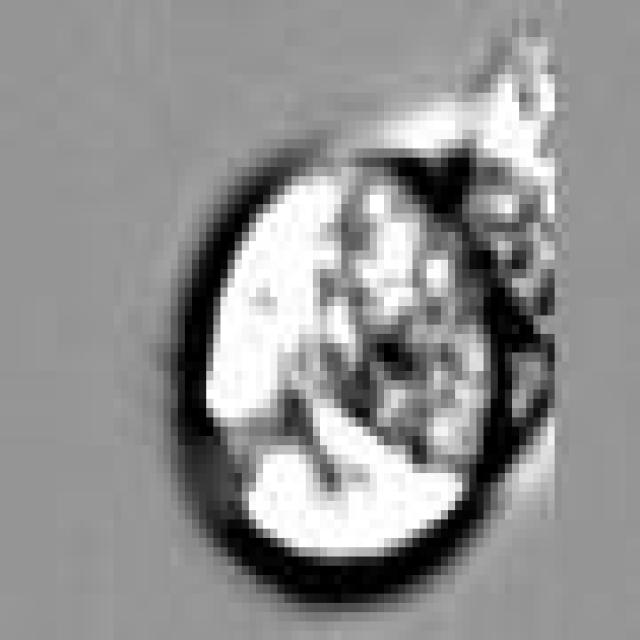Cancer Cell: (185, 148, 512, 575)
WBC: (476, 19, 554, 352)
